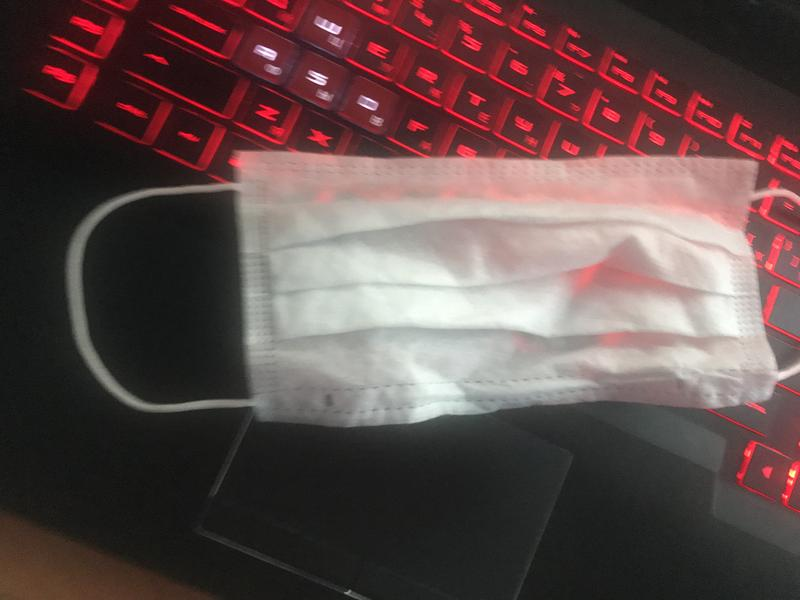medical_mask: (66, 152, 792, 418)
